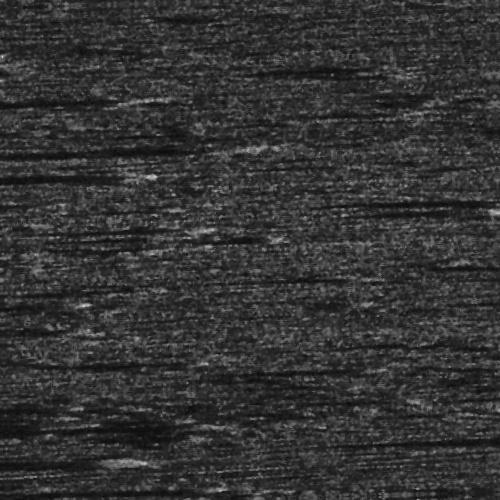object: (30, 450, 207, 463), (115, 164, 188, 177), (153, 480, 236, 489), (379, 66, 432, 75), (207, 143, 280, 148), (28, 414, 91, 419), (141, 91, 182, 98), (17, 477, 58, 482), (131, 231, 172, 234), (49, 397, 80, 400), (60, 294, 91, 297)
shadow: (0, 164, 151, 177), (0, 480, 194, 489), (0, 450, 118, 463), (0, 143, 243, 148), (276, 66, 405, 75), (0, 91, 162, 98), (385, 441, 500, 448), (226, 370, 357, 373), (0, 414, 60, 419), (56, 231, 151, 234), (0, 294, 75, 297), (0, 397, 64, 400), (0, 477, 38, 482)
